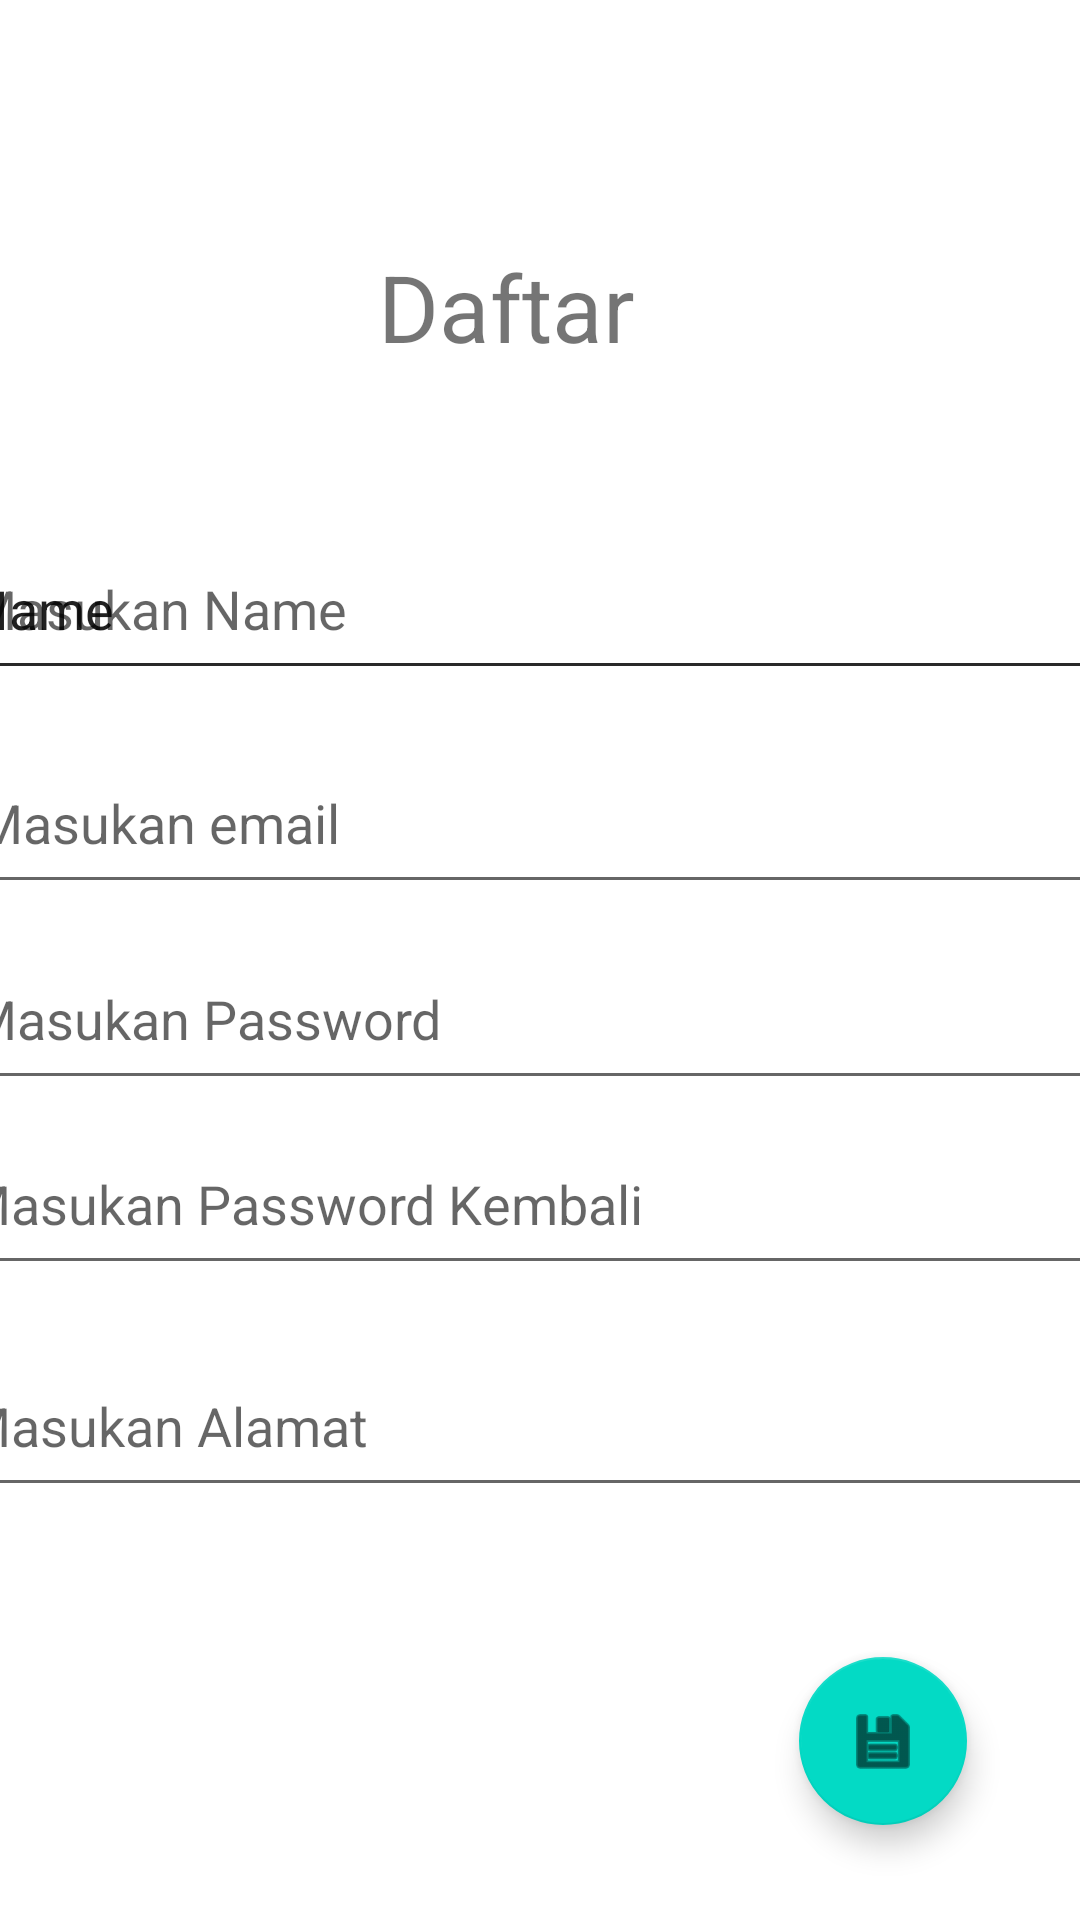

Icons on this 1080×1920 Android screen, each with its box as (x1, y1, x2, y2):
save: (799, 1657, 967, 1825)
